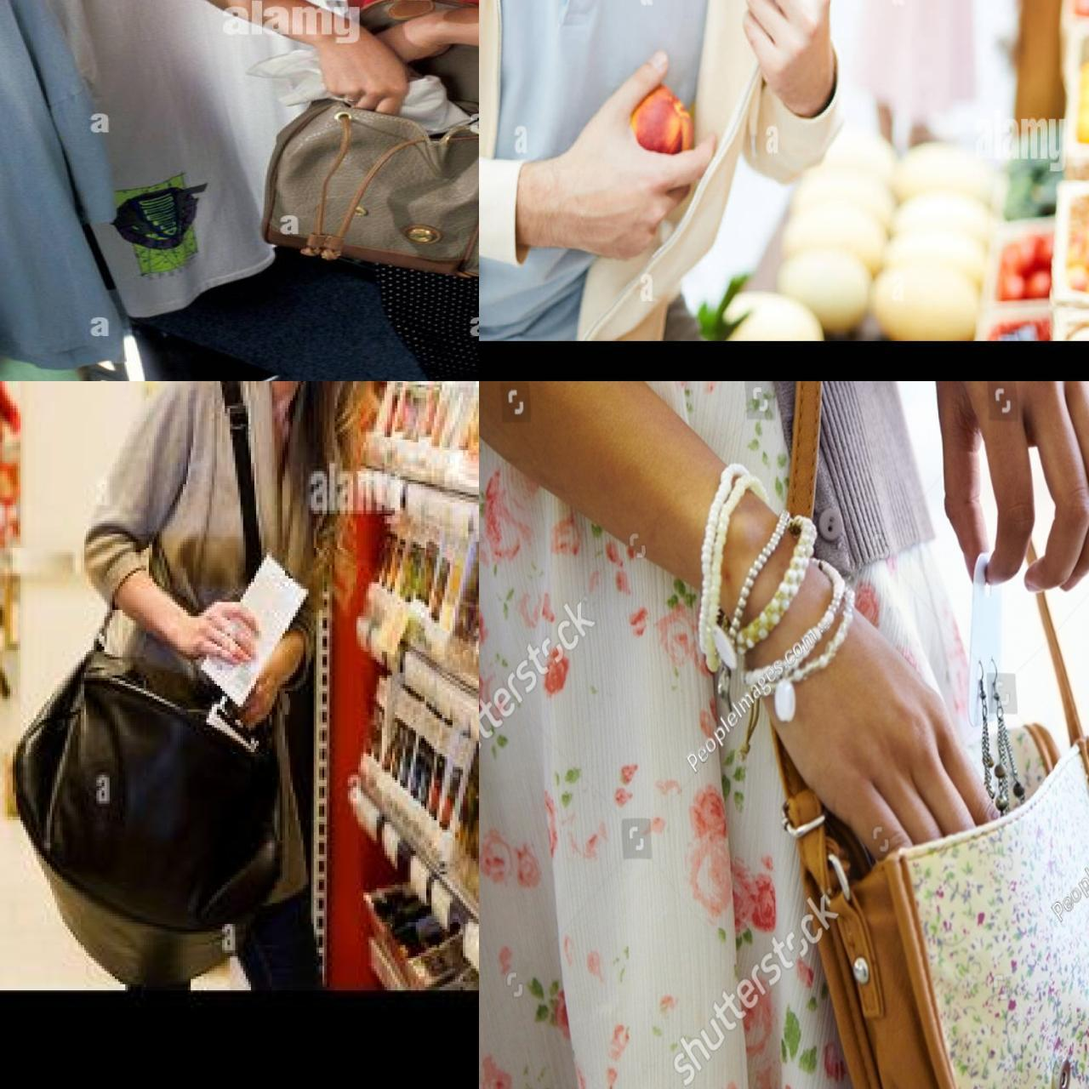shoplifting: (604, 544, 1089, 1089), (13, 518, 359, 960), (491, 9, 845, 326), (183, 7, 481, 281)
